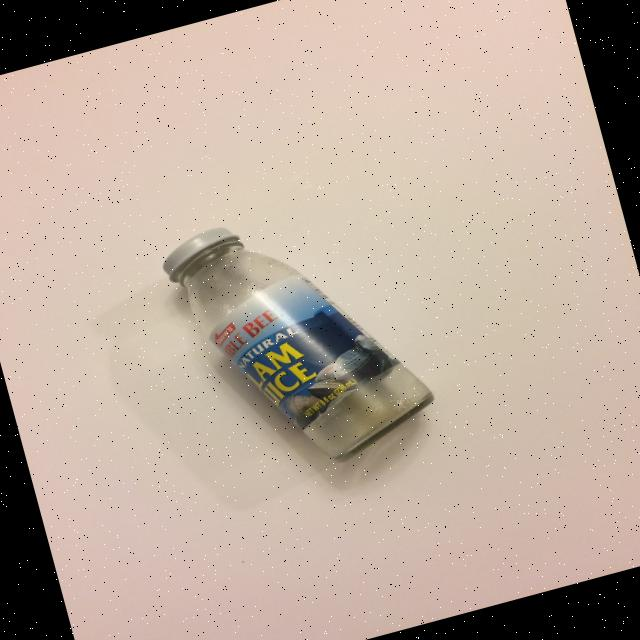glass: (154, 182, 444, 493)
